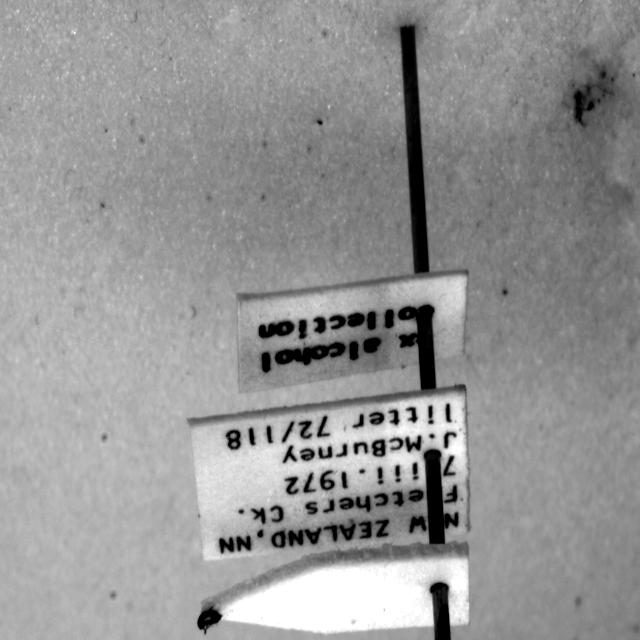typed_label: (189, 386, 469, 561), (238, 270, 468, 392)
